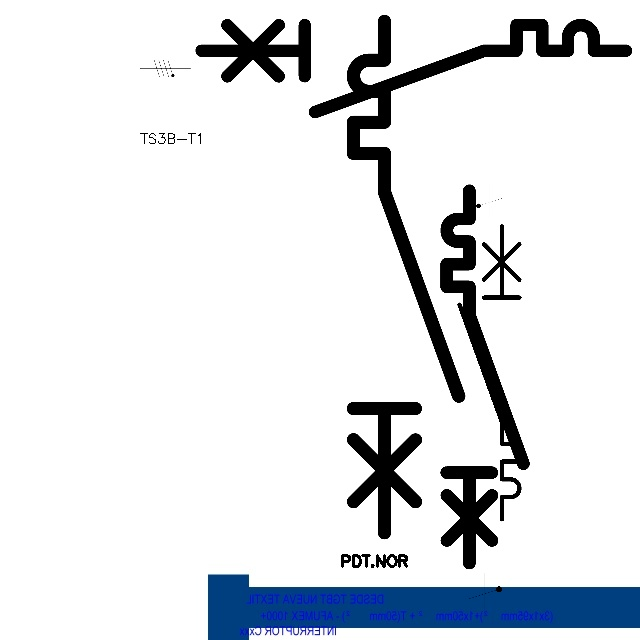interruptor_termomagnetico: (340, 8, 471, 546), (190, 14, 637, 123), (437, 181, 532, 572), (452, 218, 527, 526)
